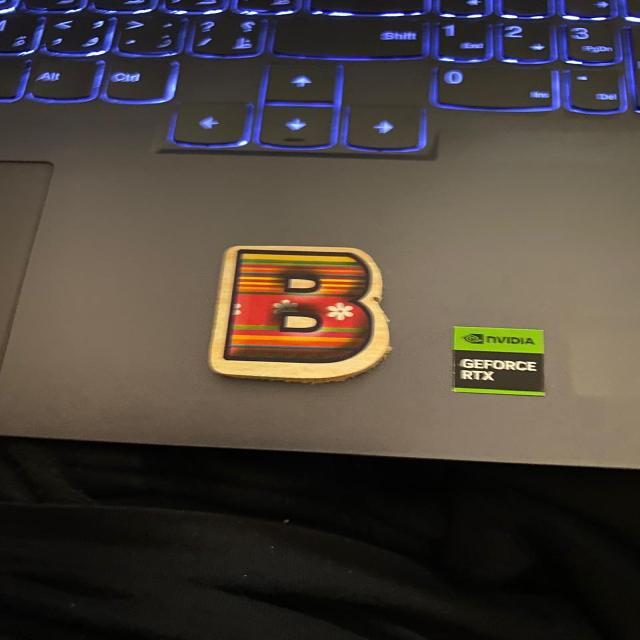B: (209, 245, 389, 382)
